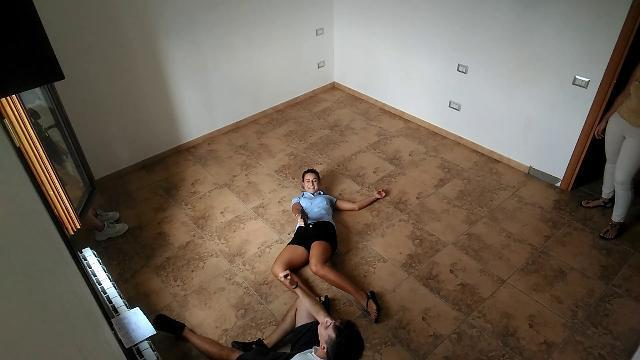knife: (283, 272, 291, 279)
non-violence: (27, 107, 129, 241), (579, 72, 640, 238)
violence: (151, 167, 389, 359)
weapon: (300, 208, 309, 227)
